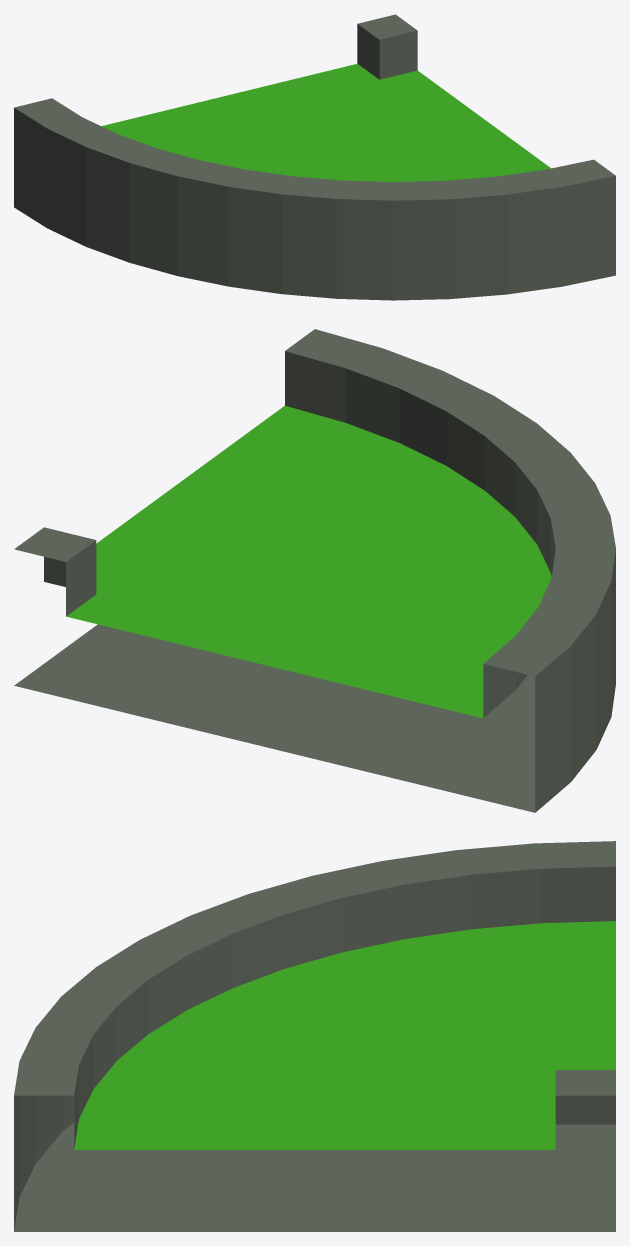
The model's file is CornerNarrowWalled.fbx.
3 renders of one model, top to bottom at view 1: azimuth 30°, elevation 25°; view 2: azimuth 150°, elevation 25°; view 3: azimuth 270°, elevation 25°, orthographic. The views are drawn at different scales.
Visible parts, largest first — view 1: CornerNarrowWalled; view 2: CornerNarrowWalled; view 3: CornerNarrowWalled.
Part boxes in pixels (left/top/right/bottom): CornerNarrowWalled: left=14, top=14, right=615, bottom=300; CornerNarrowWalled: left=14, top=329, right=615, bottom=812; CornerNarrowWalled: left=14, top=841, right=615, bottom=1231.
Bounding box in the file's own units: 200 × 50 × 200.
